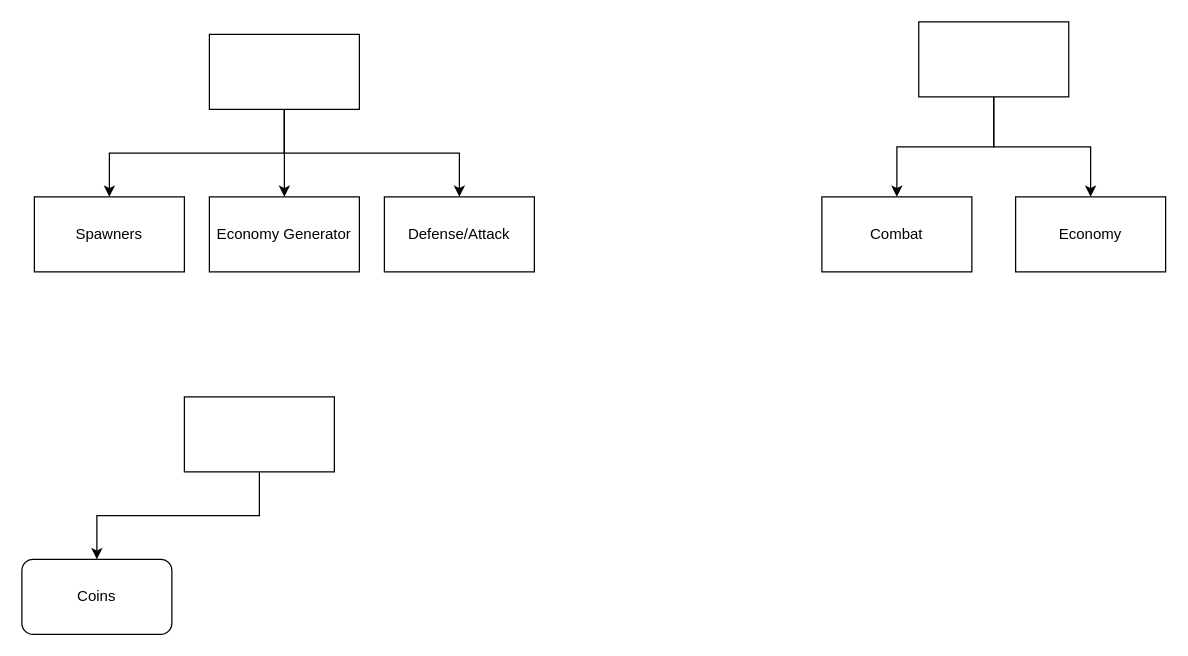
The diagram is 1188 pixels wide and 656 high, and some of its shapes have lost their labels. Each missing label, with the centre of its shape:
"Buildings" goes at point 283,71.
"Currency" goes at point 258,434.
"Units" goes at point 993,59.
